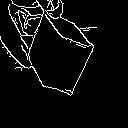cube: (23, 13, 97, 101)
